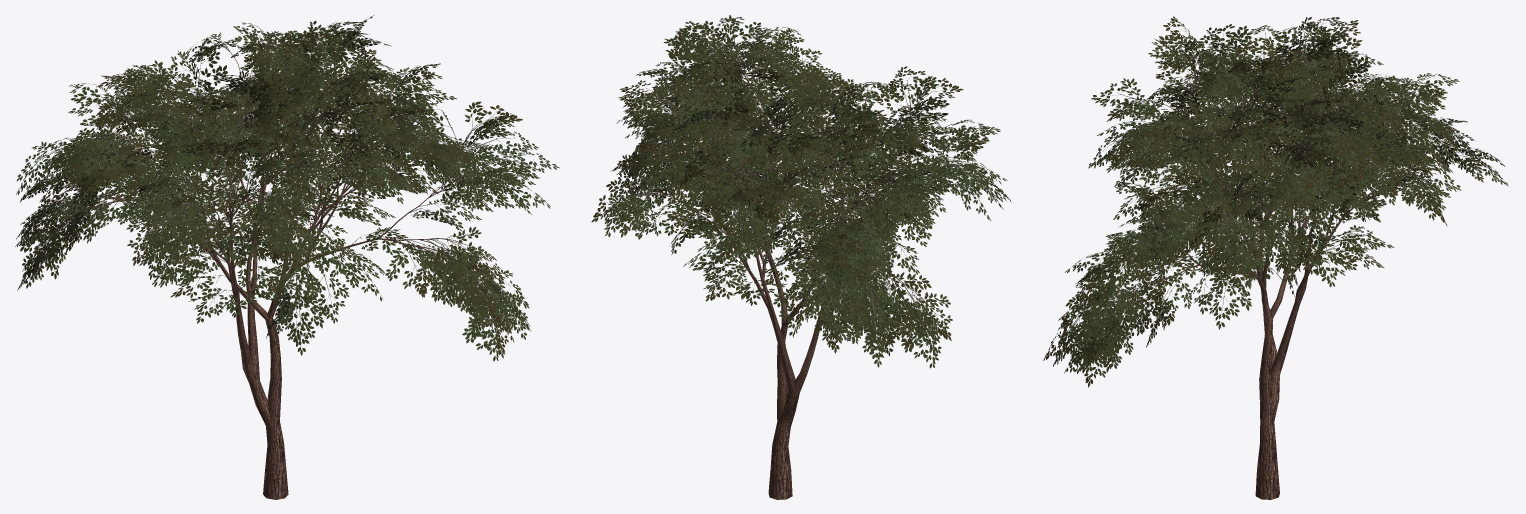
File: Tree.obj
The picture shows the model from 3 angles, left to right: view 1: azimuth 30°, elevation 25°; view 2: azimuth 150°, elevation 25°; view 3: azimuth 270°, elevation 25°; orthographic projection. The views are drawn at different scales.
Parts seen in each view (by area): view 1: Tree_polySurface1 g1 g2 polySurface1, Tree_polySurface1 g1 polySurface1; view 2: Tree_polySurface1 g1 g2 polySurface1, Tree_polySurface1 g1 polySurface1; view 3: Tree_polySurface1 g1 g2 polySurface1, Tree_polySurface1 g1 polySurface1.
Part boxes in pixels (x1,y1,x2,y2): Tree_polySurface1 g1 g2 polySurface1: [15, 15, 559, 361]; Tree_polySurface1 g1 polySurface1: [43, 36, 494, 499]; Tree_polySurface1 g1 g2 polySurface1: [591, 15, 1011, 368]; Tree_polySurface1 g1 polySurface1: [644, 53, 961, 499]; Tree_polySurface1 g1 g2 polySurface1: [1043, 16, 1508, 387]; Tree_polySurface1 g1 polySurface1: [1085, 51, 1453, 499].
Bounding box in the file's own units: 3.63 × 3.82 × 3.55.
